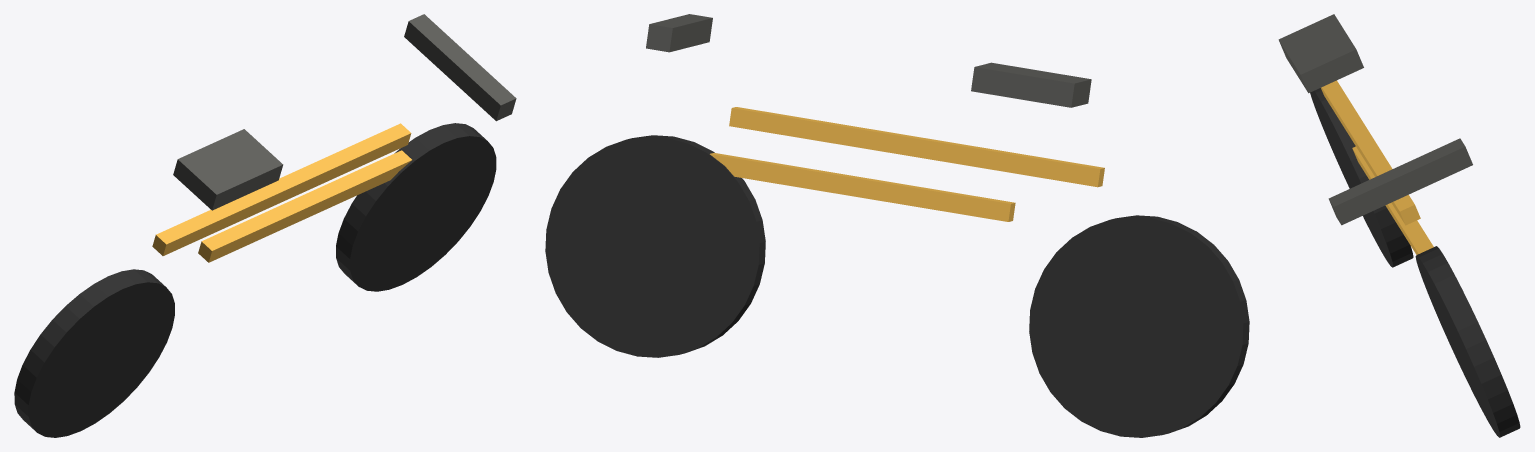
The model's file is bicycle.glb.
The picture shows the model from 3 angles, left to right: view 1: azimuth 30°, elevation 25°; view 2: azimuth 150°, elevation 25°; view 3: azimuth 270°, elevation 25°; orthographic projection. The views are drawn at different scales.
Size of the model in its own units: 2.31 by 1.21 by 0.8667.
